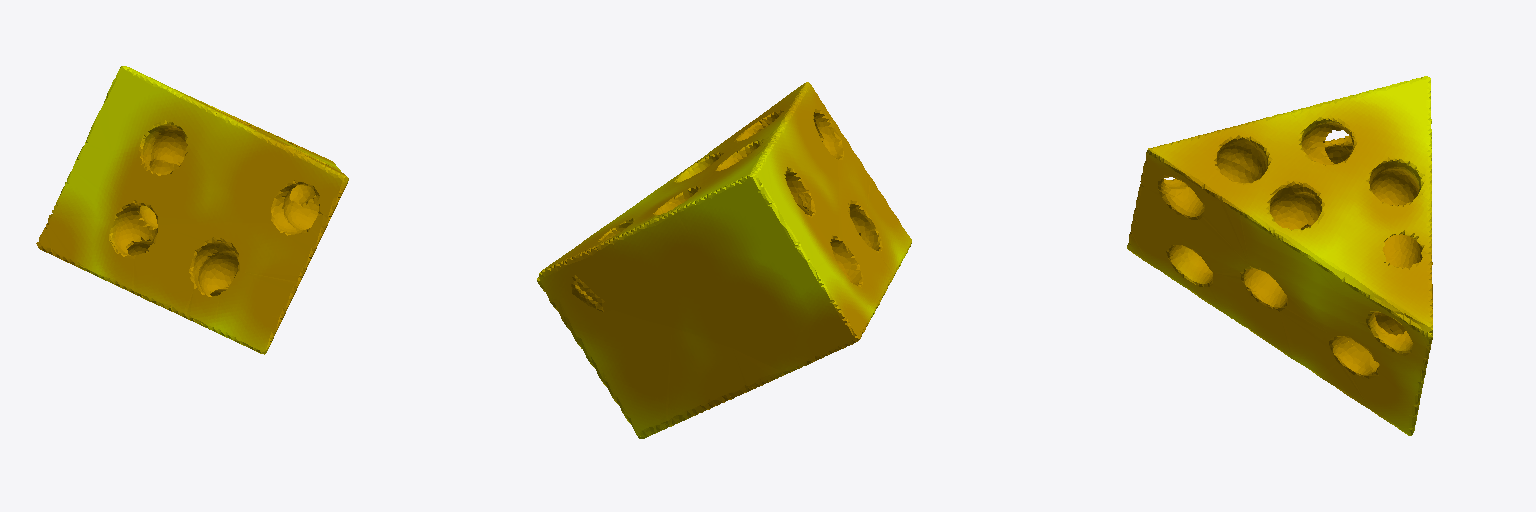
3 renders of one model, left to right at view 1: azimuth 30°, elevation 25°; view 2: azimuth 150°, elevation 25°; view 3: azimuth 270°, elevation 25°, orthographic.
Parts seen in each view (by area): view 1: Layer_1; view 2: Layer_1; view 3: Layer_1.
Boxes of the visible parts, <box> form: Layer_1: <box>36,66,348,354</box>; Layer_1: <box>537,82,911,438</box>; Layer_1: <box>1127,76,1432,435</box>.
Bounding box in the file's own units: 1.25 × 1.16 × 1.07.
Materials: 1 (1 with a texture image).